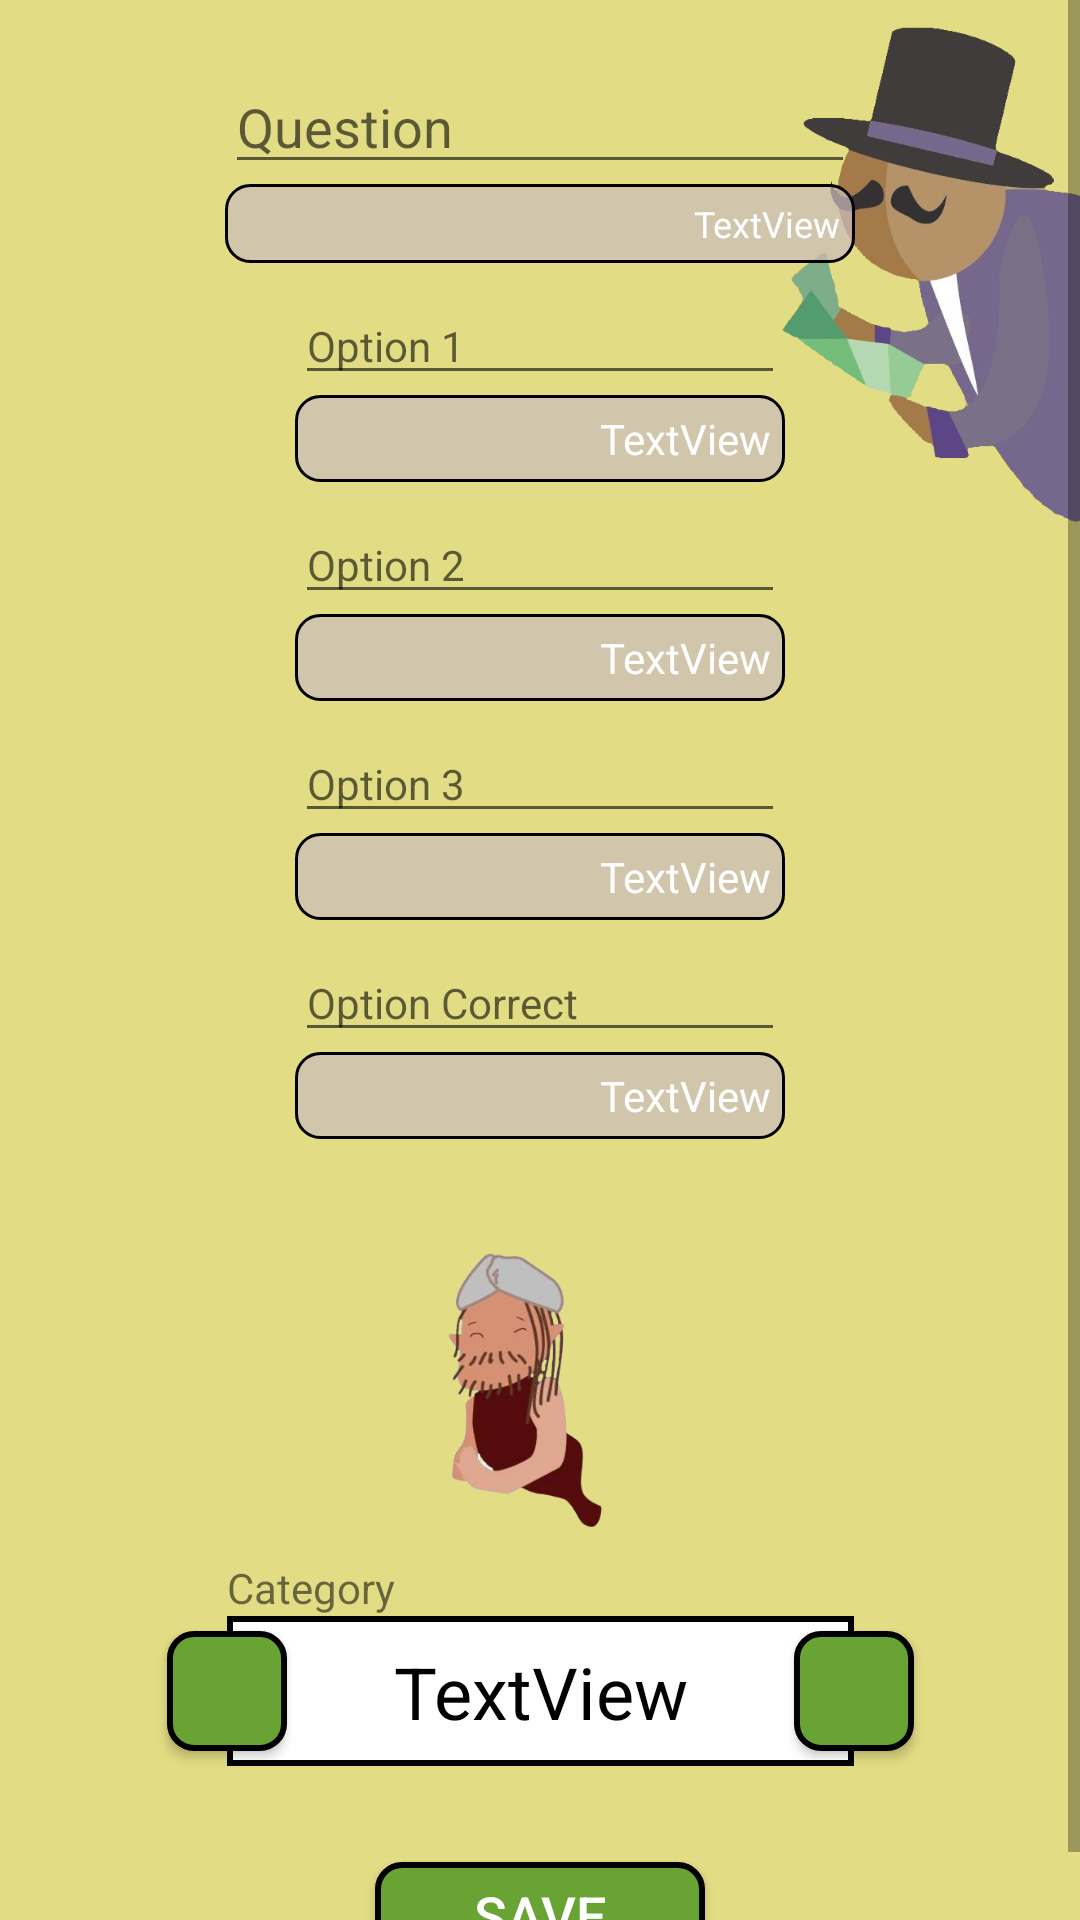

Icons on this 1080px×1920px Android screen, each with its box as (left=x1, top=y1, right=x2, bottom=y2):
person another: (left=449, top=1254, right=602, bottom=1527)
